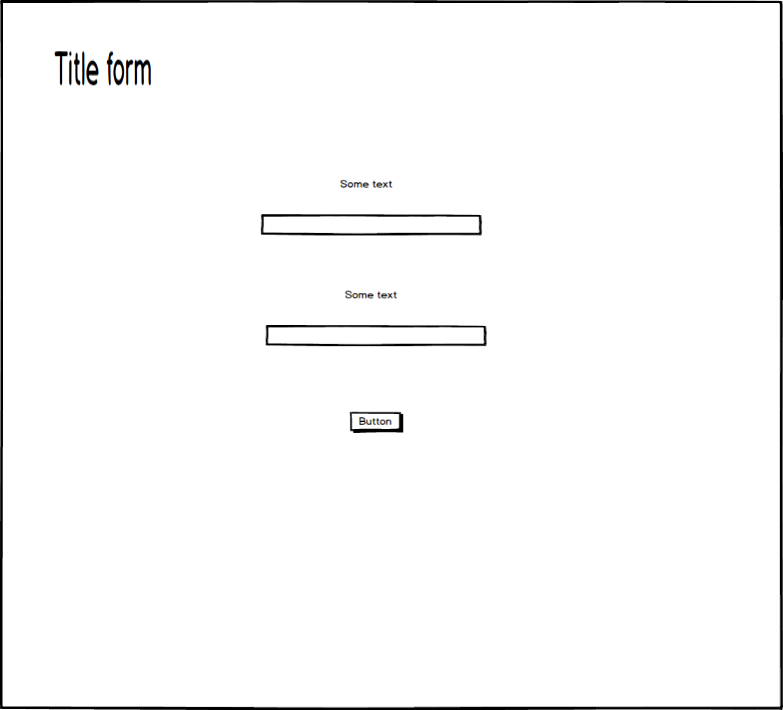button: (345, 407, 413, 436)
h1: (46, 41, 158, 93)
input: (260, 322, 491, 351), (255, 213, 487, 238)
label: (337, 174, 401, 197), (340, 282, 406, 303)
